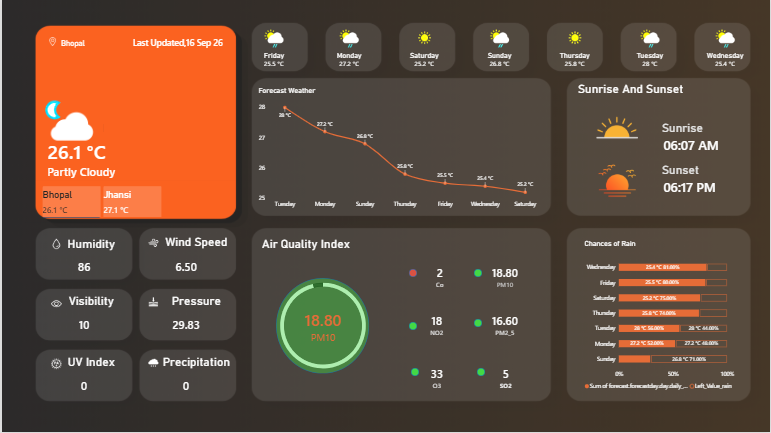

The dashboard page shown, as its layout file describes it:
{"tool":"powerbi","page":{"name":"Page 1","canvas":[1920,1080],"ordinal":0},"visuals":[{"type":"donutChart","fields":{"Y":["Measure.Left_Value_pm10","Sum(Current.current.air_quality.pm10)"]},"box":[652.4,664.8,300,300],"z":0},{"type":"shape","box":[686,694,233,239],"z":1000},{"type":"advancedSlicerVisual","fields":{"Values":["Current.current.condition.text"]},"box":[147,98,162,45],"z":2000},{"type":"image","box":[115,86,22.5,37.5],"z":3000},{"type":"advancedSlicerVisual","fields":{"Label":["Min(Forecast_Days.forecast.forecastday.day.condition.icon)"],"Values":["Forecast_Days.Day_column"]},"box":[569.4,65.5,1350.6,113.4],"z":4000},{"type":"lineChart","title":"Forecast Weather","fields":{"Category":["Forecast_Days.Day_column"],"Y":["Sum(Forecast_Days.forecast.forecastday.day.avgtemp_c)"]},"box":[625.9,202,739.1,337.4],"z":5000},{"type":"cardVisual","fields":{"Data":["Min(Current.current.condition.icon)"]},"box":[75,226.7,196.7,150],"z":6000},{"type":"cardVisual","fields":{"Data":["Measure.Curr_Temp_cel"]},"box":[96.7,301.7,200,150],"z":7000},{"type":"cardVisual","fields":{"Data":["Min(Current.current.condition.text)"]},"box":[96.7,406.7,308.3,43.3],"z":8000},{"type":"cardVisual","fields":{"Data":["Measure.Last_Updated_date_curr"]},"box":[261,86,308,51],"z":9000},{"type":"cardVisual","fields":{"Data":["Sum(Current.current.humidity)"]},"box":[97,633.8,216.8,61.9],"z":10000},{"type":"advancedSlicerVisual","fields":{"Values":["Location.location.name"]},"box":[57.8,452.1,536.8,103.2],"z":11000},{"type":"cardVisual","fields":{"Data":["Sum(Current.current.wind_kph)"]},"box":[353,633.8,216.8,61.9],"z":12000},{"type":"cardVisual","fields":{"Data":["Sum(Current.current.vis_km)"]},"box":[97,780.4,216.8,61.9],"z":13000},{"type":"cardVisual","fields":{"Data":["Sum(Current.current.pressure_in)"]},"box":[353,780.4,216.8,61.9],"z":14000},{"type":"cardVisual","fields":{"Data":["Sum(Current.current.uv)"]},"box":[97,933.2,216.8,61.9],"z":15000},{"type":"cardVisual","fields":{"Data":["Sum(Current.current.precip_in)"]},"box":[353,933.2,216.8,61.9],"z":16000},{"type":"cardVisual","title":"Humidity","fields":{"Data":["Sum(Current.current.humidity)"]},"box":[115,592.5,216.8,45.4],"z":17000},{"type":"cardVisual","title":"Wind Speed","fields":{"Data":["Sum(Current.current.humidity)"]},"box":[377.8,588.4,216.8,45.4],"z":18000},{"type":"cardVisual","title":"Visibility","fields":{"Data":["Sum(Current.current.humidity)"]},"box":[115.6,735,216.8,45.4],"z":19000},{"type":"cardVisual","title":"UV Index","fields":{"Data":["Sum(Current.current.humidity)"]},"box":[115.6,887.7,216.8,45.4],"z":20000},{"type":"cardVisual","title":"Precipitation","fields":{"Data":["Sum(Current.current.humidity)"]},"box":[377.8,887.7,216.8,45.4],"z":21000},{"type":"cardVisual","title":"Pressure","fields":{"Data":["Sum(Current.current.humidity)"]},"box":[377.8,735,216.8,45.4],"z":22000},{"type":"cardVisual","title":"Sunrise And Sunset","fields":{"Data":["Sum(Current.current.humidity)"]},"box":[1441,204.4,311.7,45.4],"z":23000},{"type":"cardVisual","title":"Sunrise ","fields":{"Data":["Sum(Current.current.humidity)"]},"box":[1649.5,301.4,229.2,45.4],"z":24000},{"type":"cardVisual","title":"Sunset","fields":{"Data":["Sum(Current.current.humidity)"]},"box":[1649.5,406.7,229.2,45.4],"z":25000},{"type":"image","box":[1441,266.3,196.1,103.2],"z":26000},{"type":"image","box":[1441,400.5,196.1,103.2],"z":27000},{"type":"hundredPercentStackedBarChart","title":"Chances of Rain","fields":{"Category":["Forecast_Days.Day_column"],"Y":["Sum(Forecast_Days.forecast.forecastday.day.daily_chance_of_rain)","Current.Left_Value_rain"]},"box":[1441,584.3,406.7,410.8],"z":28000},{"type":"cardVisual","title":"Air Quality Index","fields":{"Data":["Sum(Current.current.humidity)"]},"box":[649.1,591.8,311.7,45.4],"z":29000},{"type":"cardVisual","fields":{"Data":["Sum(Current.current.air_quality.pm10)"]},"box":[1150.9,643.6,215.5,100.9],"z":30000},{"type":"cardVisual","fields":{"Data":["Sum(Current.current.air_quality.o3)"]},"box":[995.5,894.5,185.5,100.9],"z":31000},{"type":"cardVisual","fields":{"Data":["Sum(Current.current.air_quality.no2)"]},"box":[1003.6,763.6,169.1,100.9],"z":32000},{"type":"cardVisual","fields":{"Data":["Sum(Current.current.air_quality.gb-defra-index)"]},"box":[1006.4,643.6,174.5,100.9],"z":33000},{"type":"cardVisual","fields":{"Data":["Min(Forecast_Days.Sunrise_date)"]},"box":[1636.4,294.5,199.1,133.6],"z":34000},{"type":"cardVisual","fields":{"Data":["Min(Forecast_Days.Sunset_date)"]},"box":[1636.4,400.9,199.1,133.6],"z":35000},{"type":"image","box":[121.2,583.8,27.3,49.1],"z":36000},{"type":"image","box":[121.2,735,27.3,49.1],"z":37000},{"type":"image","box":[121.2,883.8,27.3,49.1],"z":38000},{"type":"image","box":[364.6,583.4,27.3,49.1],"z":39000},{"type":"image","box":[364.6,731.2,27.3,49.1],"z":40000},{"type":"image","box":[364.6,882.9,27.3,49.1],"z":41000},{"type":"cardVisual","fields":{"Data":["Sum(Current.current.air_quality.pm2_5)"]},"box":[1164.5,763.6,185.5,100.9],"z":42000},{"type":"cardVisual","fields":{"Data":["Sum(Current.current.air_quality.so2)"]},"box":[1172.7,894.5,174.5,100.9],"z":43000},{"type":"shape","box":[1180.9,673.6,20,20],"z":44000},{"type":"shape","box":[1180.9,796.4,20,20],"z":45000},{"type":"shape","box":[1186.4,919.1,20,20],"z":46000},{"type":"shape","box":[1022.7,919.1,20,20],"z":47000},{"type":"shape","box":[1017.3,673.6,20,20],"z":48000},{"type":"shape","box":[1017.3,804.5,20,20],"z":49000},{"type":"cardVisual","fields":{"Data":["Sum(Current.current.air_quality.pm10)"]},"box":[695.7,764.7,215.5,100.9],"z":50000}]}

Visuals, with their boxes in screenshot pixels (x1, y1, x2, y2), scaled from the page's 1920x1080 canvas onto the 771x433 screenshot:
donutChart - Measure.Left_Value_pm10 x Sum(Current.current.air_quality.pm10): <region>262, 267, 382, 387</region>
shape: <region>275, 278, 369, 374</region>
advancedSlicerVisual - Current.current.condition.text: <region>59, 39, 124, 57</region>
image: <region>46, 34, 55, 50</region>
advancedSlicerVisual - Min(Forecast_Days.forecast.forecastday.day.condition.icon) x Forecast_Days.Day_column: <region>229, 26, 770, 72</region>
"Forecast Weather" lineChart: <region>251, 81, 548, 216</region>
cardVisual - Min(Current.current.condition.icon): <region>30, 91, 109, 151</region>
cardVisual - Measure.Curr_Temp_cel: <region>39, 121, 119, 181</region>
cardVisual - Min(Current.current.condition.text): <region>39, 163, 163, 180</region>
cardVisual - Measure.Last_Updated_date_curr: <region>105, 34, 228, 55</region>
cardVisual - Sum(Current.current.humidity): <region>39, 254, 126, 279</region>
advancedSlicerVisual - Location.location.name: <region>23, 181, 239, 223</region>
cardVisual - Sum(Current.current.wind_kph): <region>142, 254, 229, 279</region>
cardVisual - Sum(Current.current.vis_km): <region>39, 313, 126, 338</region>
cardVisual - Sum(Current.current.pressure_in): <region>142, 313, 229, 338</region>
cardVisual - Sum(Current.current.uv): <region>39, 374, 126, 399</region>
cardVisual - Sum(Current.current.precip_in): <region>142, 374, 229, 399</region>
"Humidity" cardVisual: <region>46, 238, 133, 256</region>
"Wind Speed" cardVisual: <region>152, 236, 239, 254</region>
"Visibility" cardVisual: <region>46, 295, 133, 313</region>
"UV Index" cardVisual: <region>46, 356, 133, 374</region>
"Precipitation" cardVisual: <region>152, 356, 239, 374</region>
"Pressure" cardVisual: <region>152, 295, 239, 313</region>
"Sunrise And Sunset" cardVisual: <region>579, 82, 704, 100</region>
"Sunrise " cardVisual: <region>662, 121, 754, 139</region>
"Sunset" cardVisual: <region>662, 163, 754, 181</region>
image: <region>579, 107, 657, 148</region>
image: <region>579, 161, 657, 202</region>
"Chances of Rain" hundredPercentStackedBarChart: <region>579, 234, 742, 399</region>
"Air Quality Index" cardVisual: <region>261, 237, 386, 255</region>
cardVisual - Sum(Current.current.air_quality.pm10): <region>462, 258, 549, 298</region>
cardVisual - Sum(Current.current.air_quality.o3): <region>400, 359, 474, 399</region>
cardVisual - Sum(Current.current.air_quality.no2): <region>403, 306, 471, 347</region>
cardVisual - Sum(Current.current.air_quality.gb-defra-index): <region>404, 258, 474, 298</region>
cardVisual - Min(Forecast_Days.Sunrise_date): <region>657, 118, 737, 172</region>
cardVisual - Min(Forecast_Days.Sunset_date): <region>657, 161, 737, 214</region>
image: <region>49, 234, 60, 254</region>
image: <region>49, 295, 60, 314</region>
image: <region>49, 354, 60, 374</region>
image: <region>146, 234, 157, 254</region>
image: <region>146, 293, 157, 313</region>
image: <region>146, 354, 157, 374</region>
cardVisual - Sum(Current.current.air_quality.pm2_5): <region>468, 306, 542, 347</region>
cardVisual - Sum(Current.current.air_quality.so2): <region>471, 359, 541, 399</region>
shape: <region>474, 270, 482, 278</region>
shape: <region>474, 319, 482, 327</region>
shape: <region>476, 368, 484, 377</region>
shape: <region>411, 368, 419, 377</region>
shape: <region>409, 270, 417, 278</region>
shape: <region>409, 323, 417, 331</region>
cardVisual - Sum(Current.current.air_quality.pm10): <region>279, 307, 366, 347</region>
